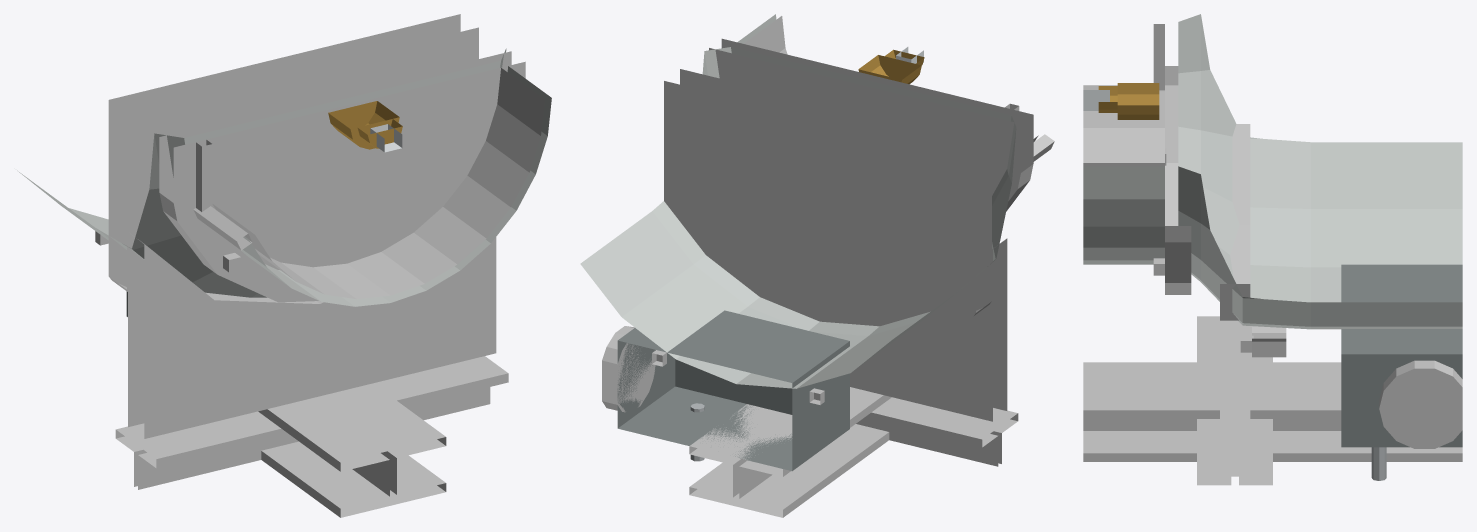
The model's file is cell_52.obj.
3 renders of one model, left to right at view 1: azimuth 30°, elevation 25°; view 2: azimuth 150°, elevation 25°; view 3: azimuth 270°, elevation 25°, orthographic. The views are drawn at different scales.
Size of the model in its own units: 1 by 1 by 1.
